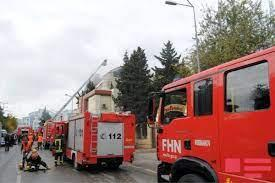Fire-engine: (149, 69, 275, 183), (56, 100, 137, 171)
